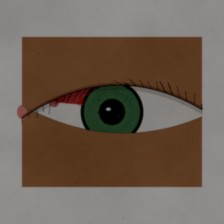hemorrhage_spot: (34, 58, 129, 134)
